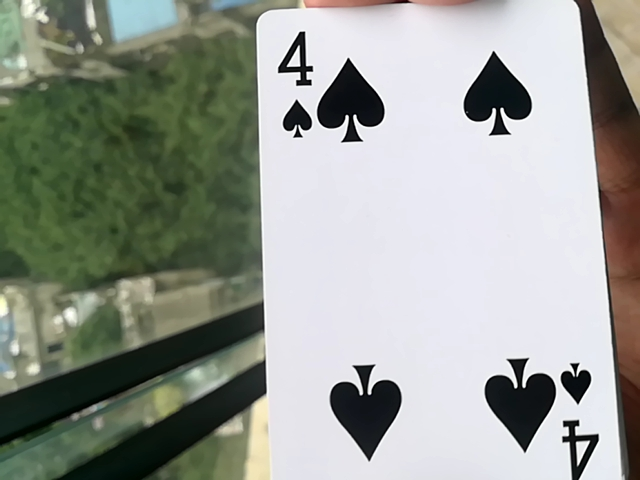ht 4: (235, 7, 629, 477)
